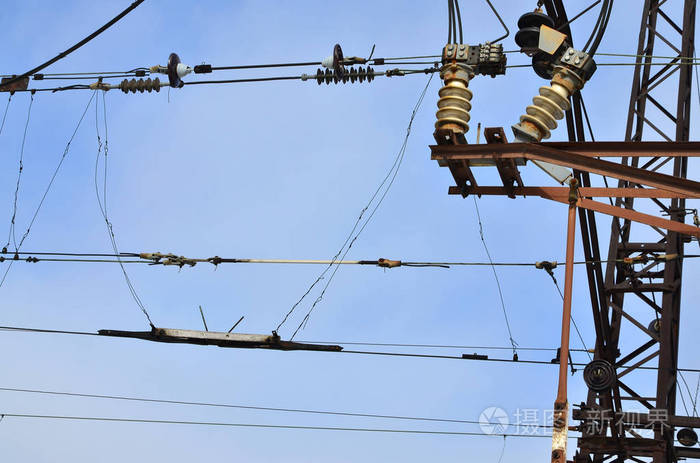insulator: (582, 358, 615, 395), (313, 67, 377, 85), (165, 49, 186, 88), (119, 75, 162, 94), (330, 42, 345, 76)
